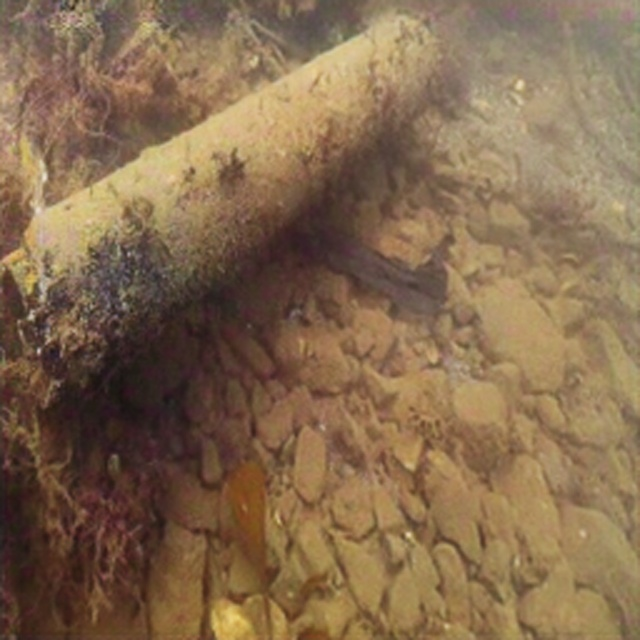mine: (0, 15, 442, 396)
